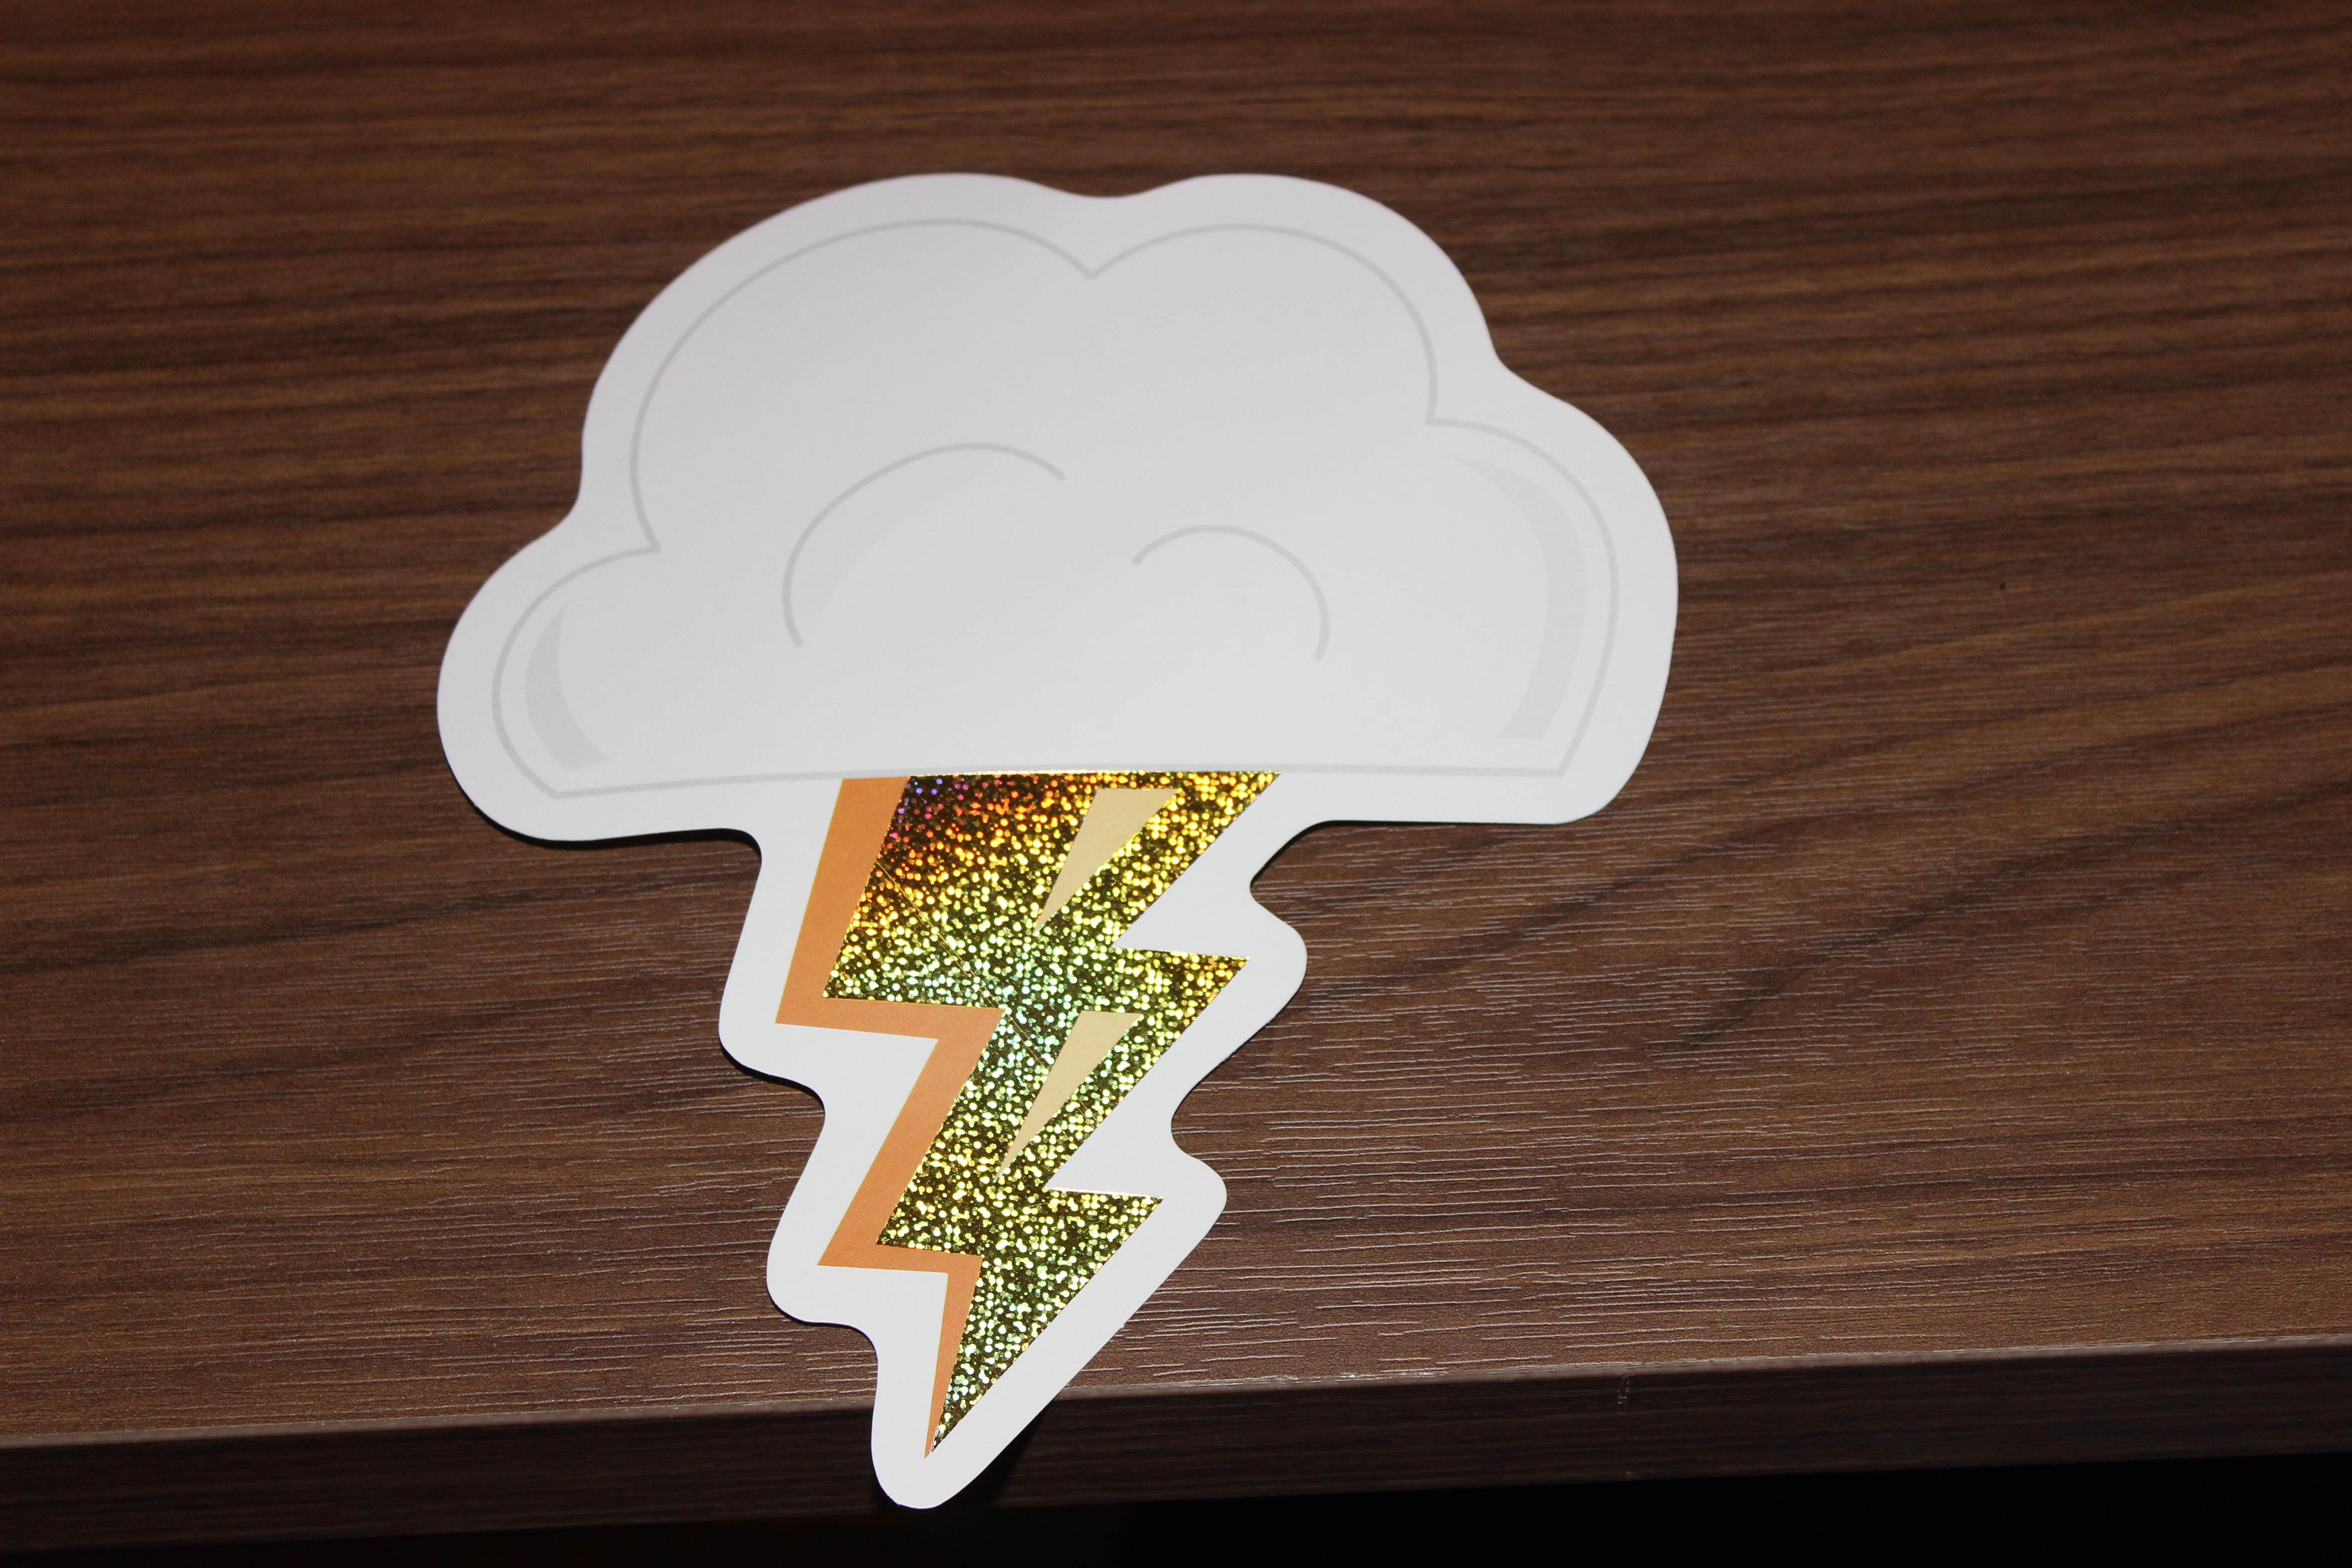cloudSign: (409, 137, 1703, 1545)
